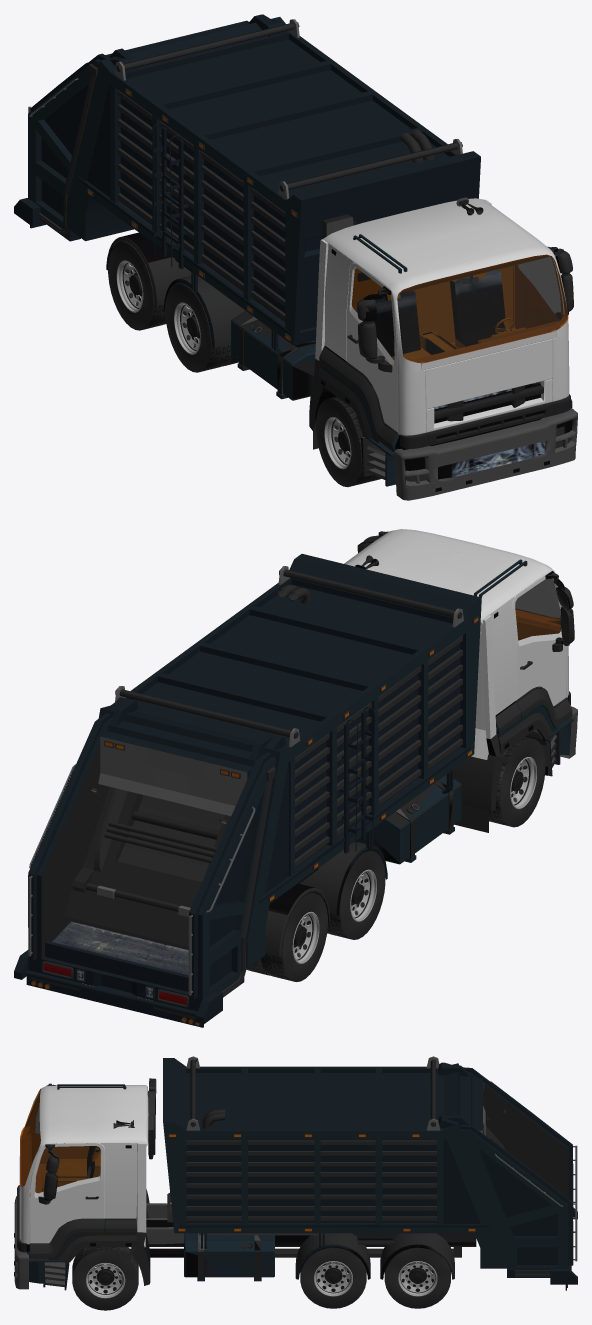
File: Truck_3.FBX
The picture shows the model from 3 angles, top to bottom: view 1: azimuth 30°, elevation 25°; view 2: azimuth 150°, elevation 25°; view 3: azimuth 270°, elevation 25°; orthographic projection. The views are drawn at different scales.
Parts seen in each view (by area): view 1: Back, Body, Wheel_BR 1, Wheel_FR, Wheel_BR 2; view 2: Back, Body, Wheel_BR 2, Wheel_FR, Wheel_BR 1; view 3: Back, Body, Wheel_FL, Wheel_BL 1, Wheel_BL 2.
Part boxes in pixels (x1,y1,x2,y2): Back: (14,14,480,353); Body: (106,197,577,500); Wheel_BR 1: (165,283,238,372); Wheel_FR: (316,397,381,487); Wheel_BR 2: (108,241,166,330); Back: (14,554,481,1027); Body: (265,529,577,956); Wheel_BR 2: (246,893,327,981); Wheel_FR: (489,737,545,827); Wheel_BR 1: (327,850,385,939); Back: (163,1056,577,1290); Body: (14,1078,476,1290); Wheel_FL: (72,1247,138,1310); Wheel_BL 1: (300,1247,366,1308); Wheel_BL 2: (384,1247,450,1308).
Bounding box in the file's own units: 64.7 × 75.05 × 203.
